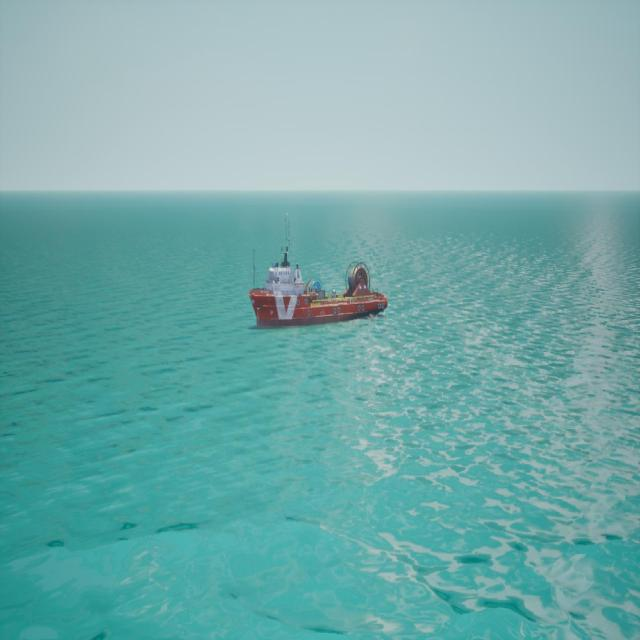tug boat: (249, 216, 386, 331)
